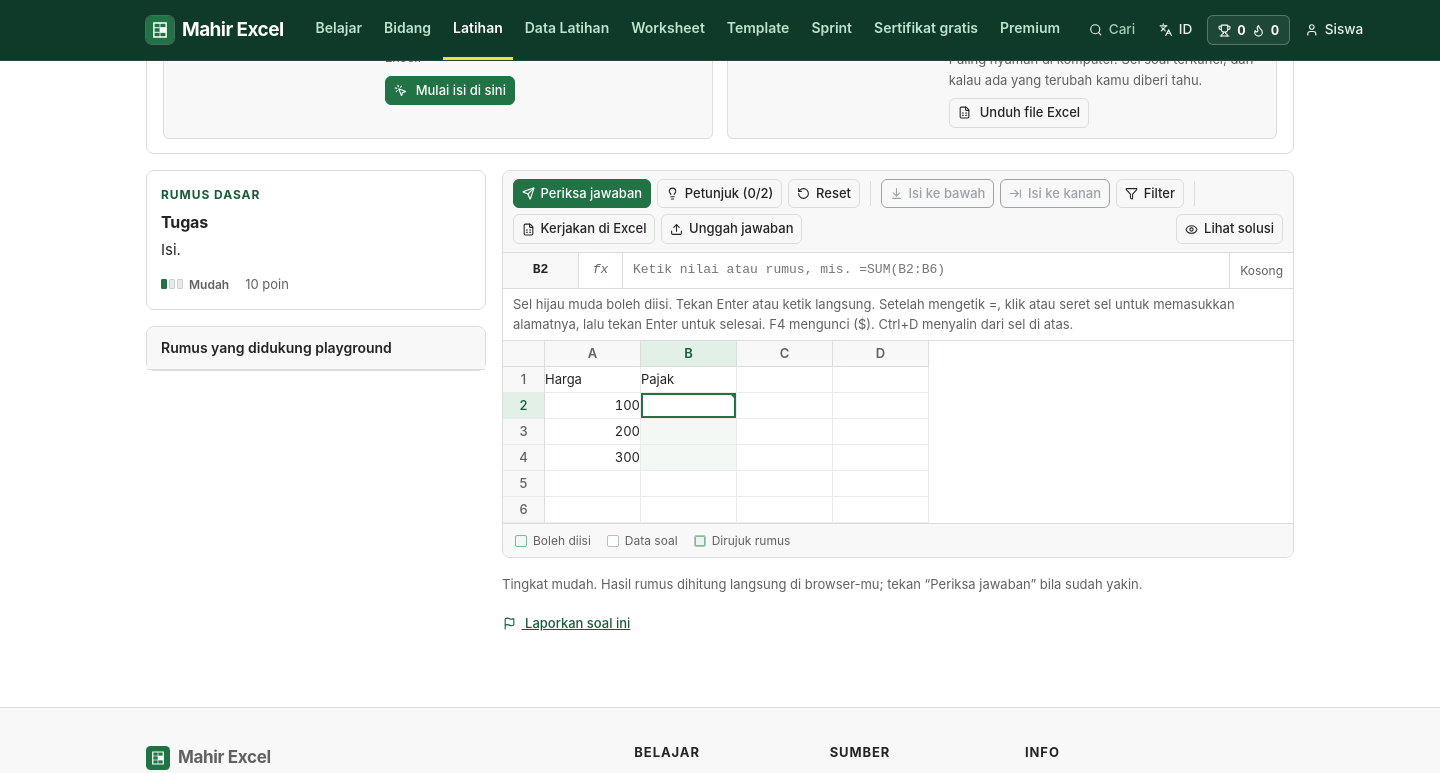
Test: isi otomatis (fill) › tombol Isi ke bawah menyalin rumus dengan referensi relatif bergeser dan absolut tetap
(page scrolled)
Click the cell named "B2, kosong": (689, 406) [641,393,737,419]
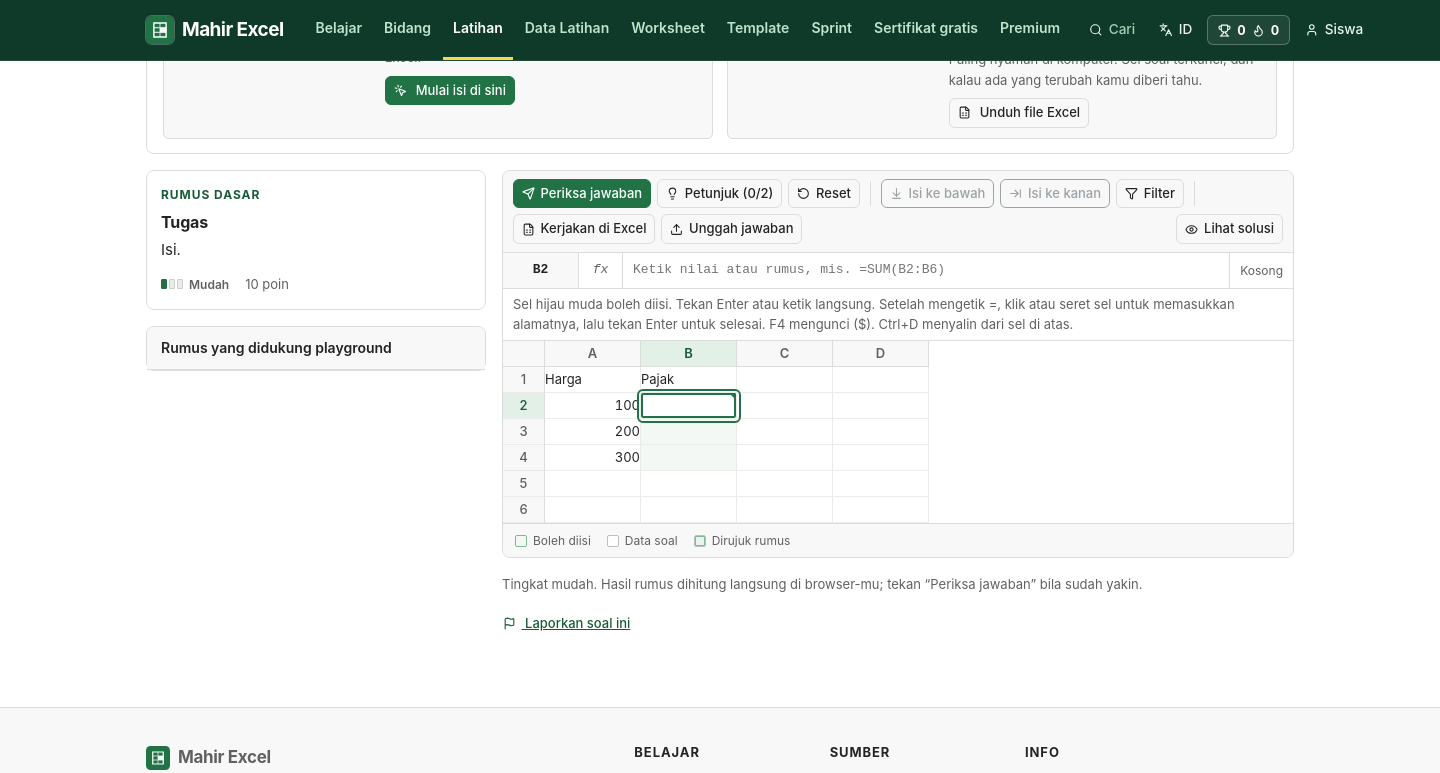
In the field named "Isi sel B2": (926, 270) [623,253,1229,288], type "=A2*$E$1"
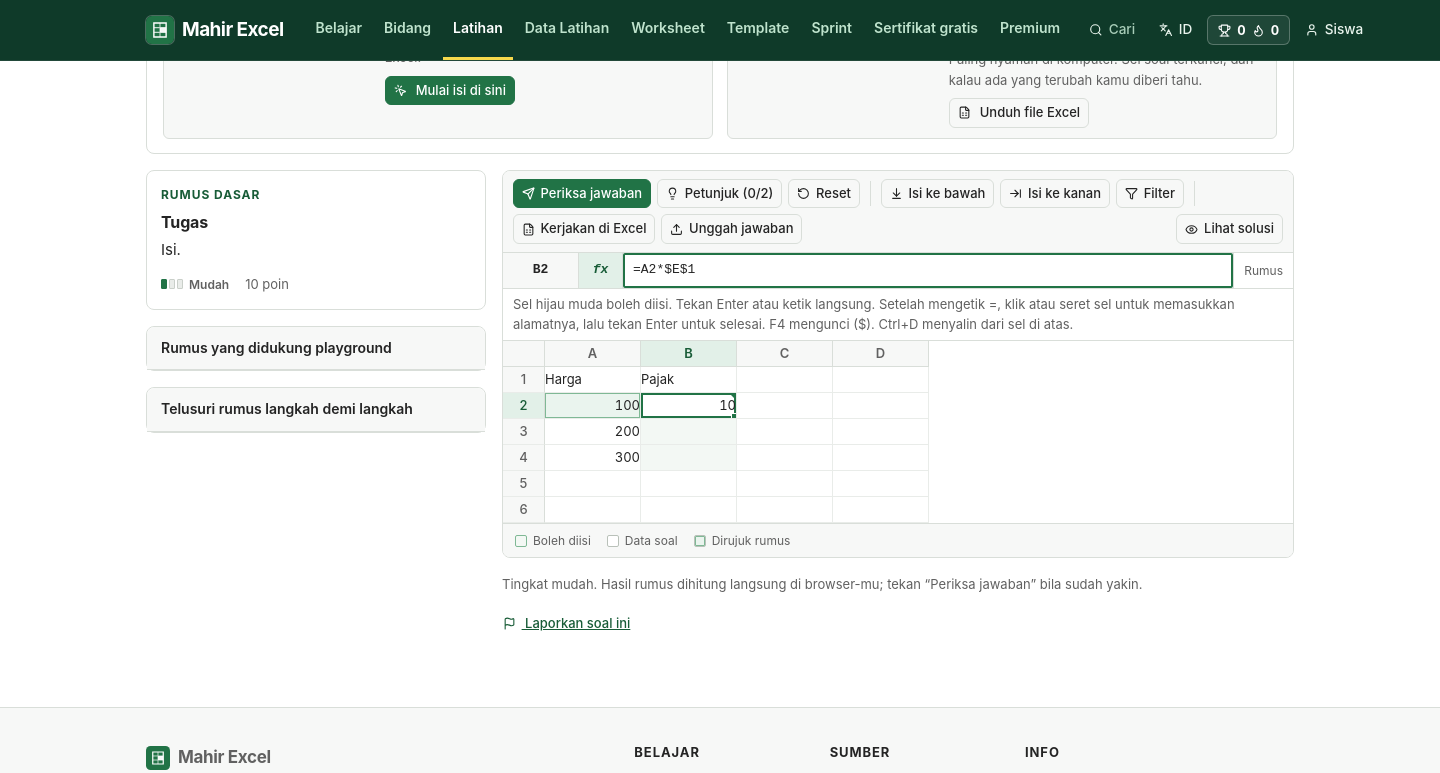
Expected: the cell named "B2: 10" is shown, [641,393,737,419]
Click the button "Isi ke bawah": (938, 194) [881,179,994,208]
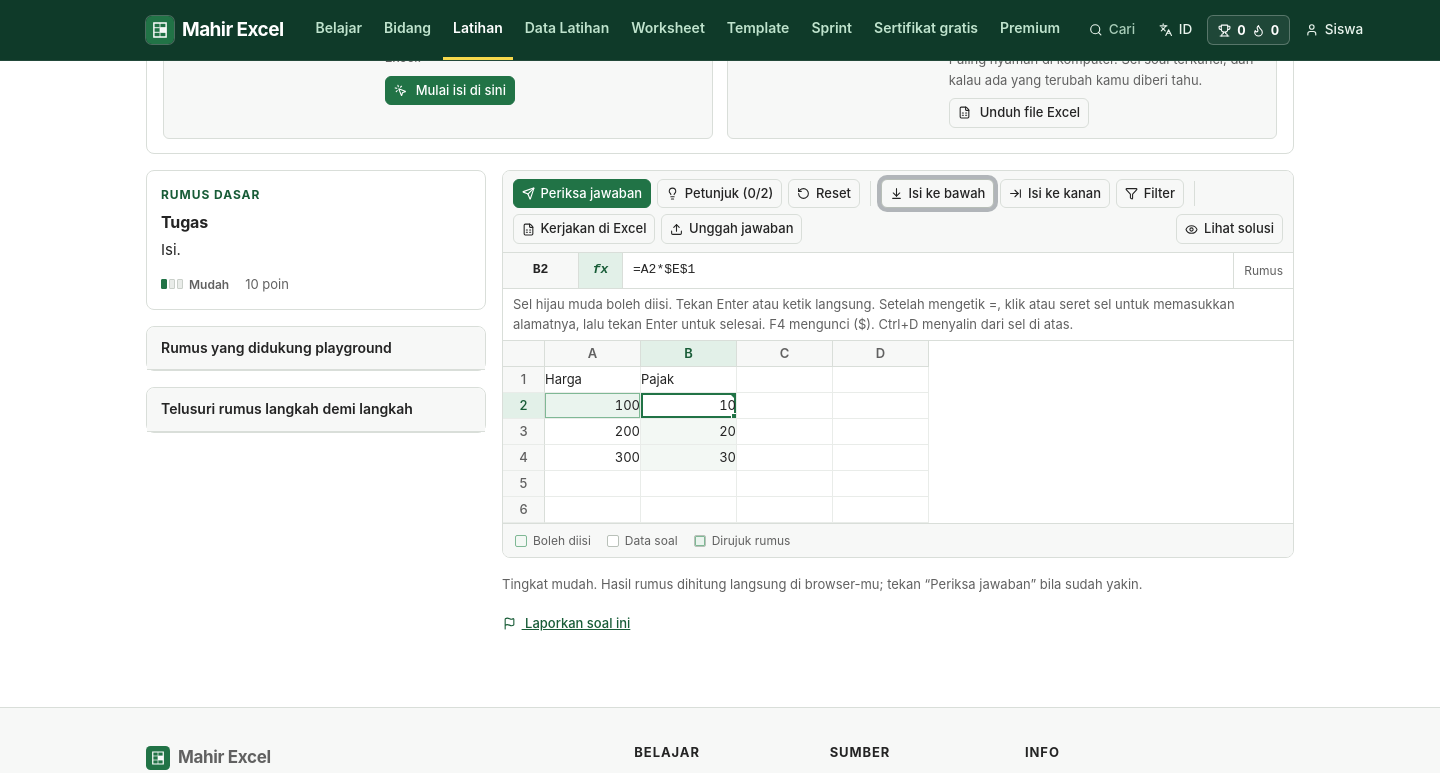
Expected: the cell named "B3: 20" is shown, [641,419,737,445]
Click the cell named "B4: 30": (689, 458) [641,445,737,471]
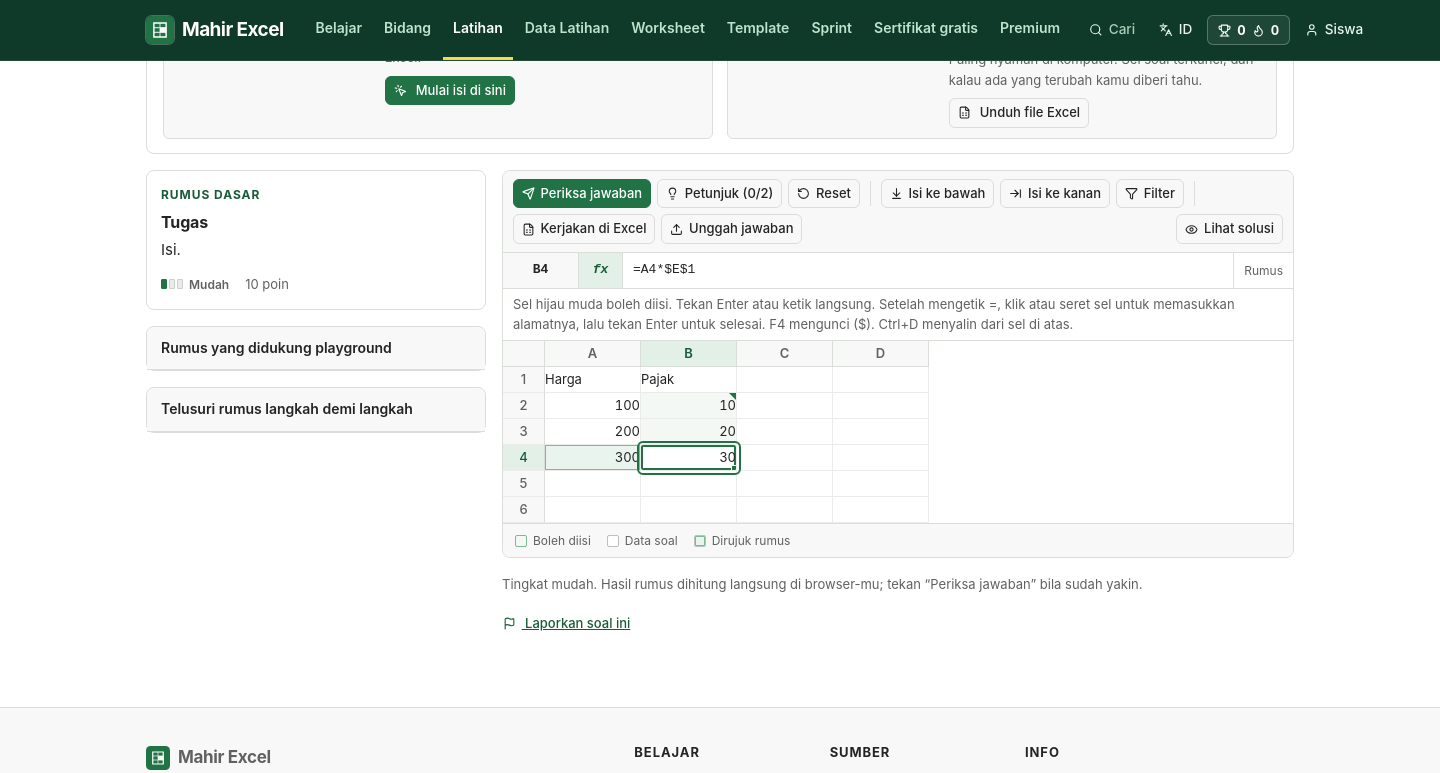
Now the field named "Isi sel B4" holds "=A4*$E$1", box [623,253,1233,288]
